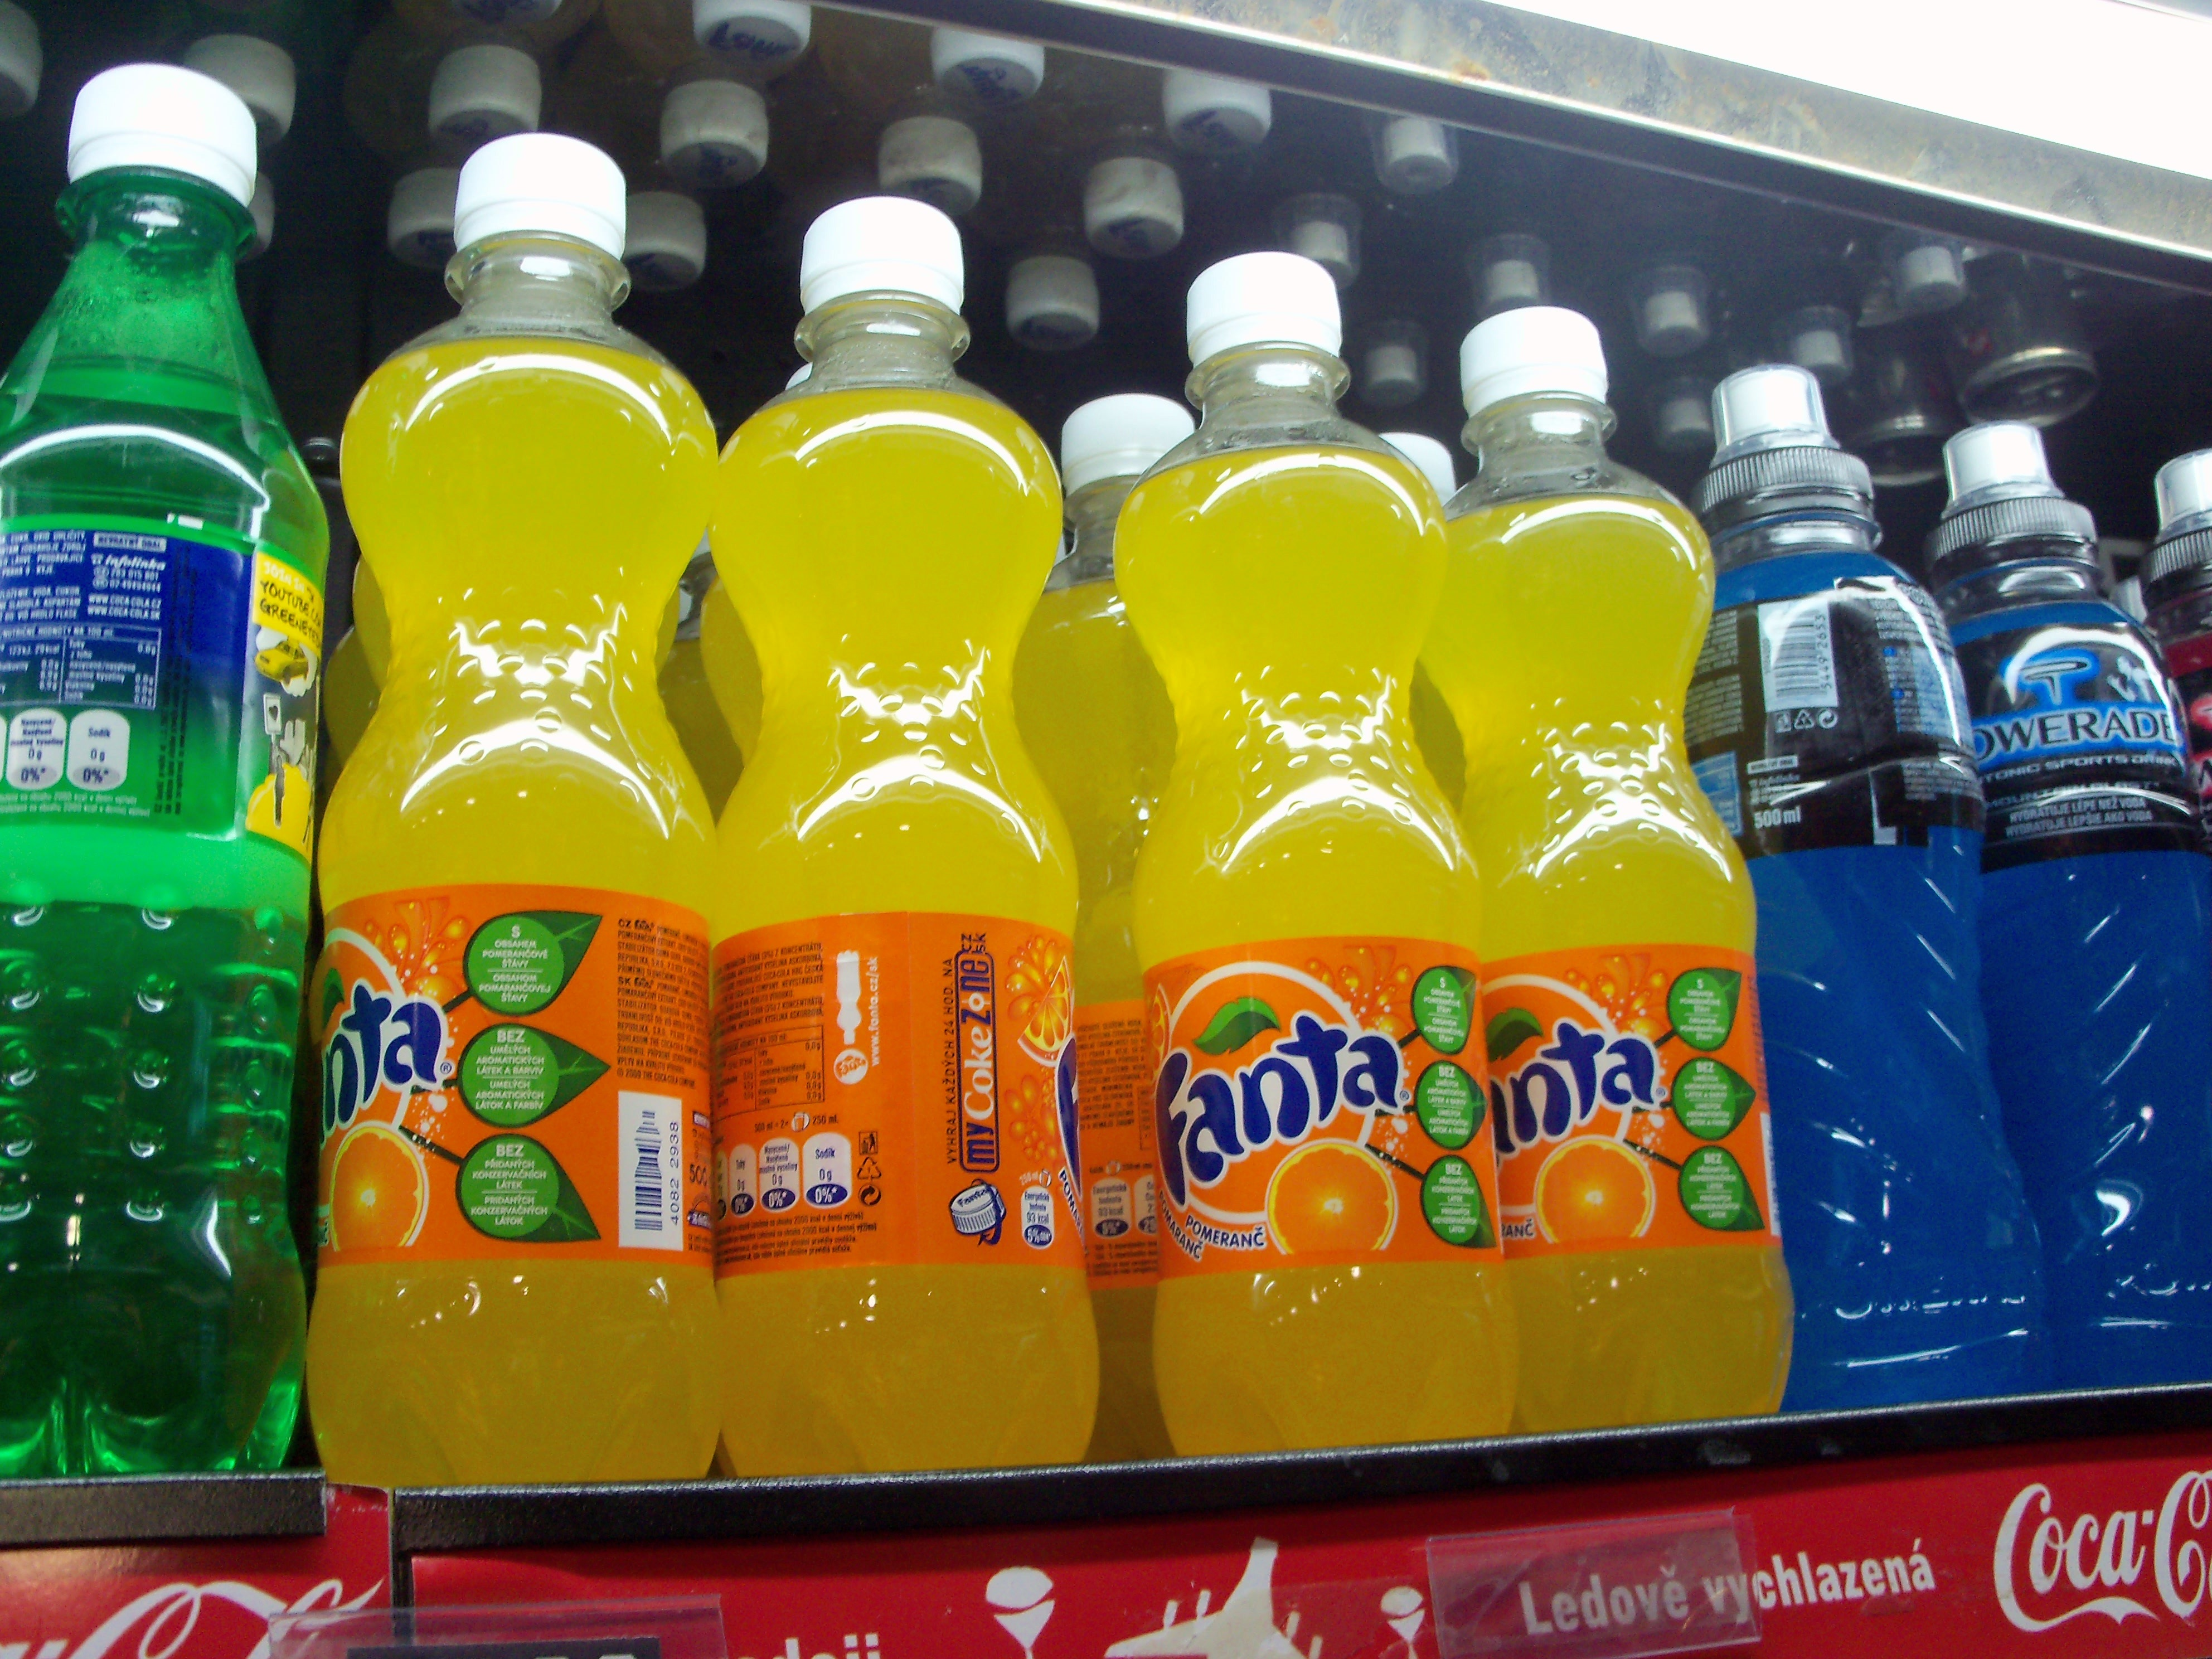fanta: (340, 338, 697, 1473), (1160, 293, 1482, 1439), (740, 321, 1062, 1467), (1501, 479, 1754, 1448)
